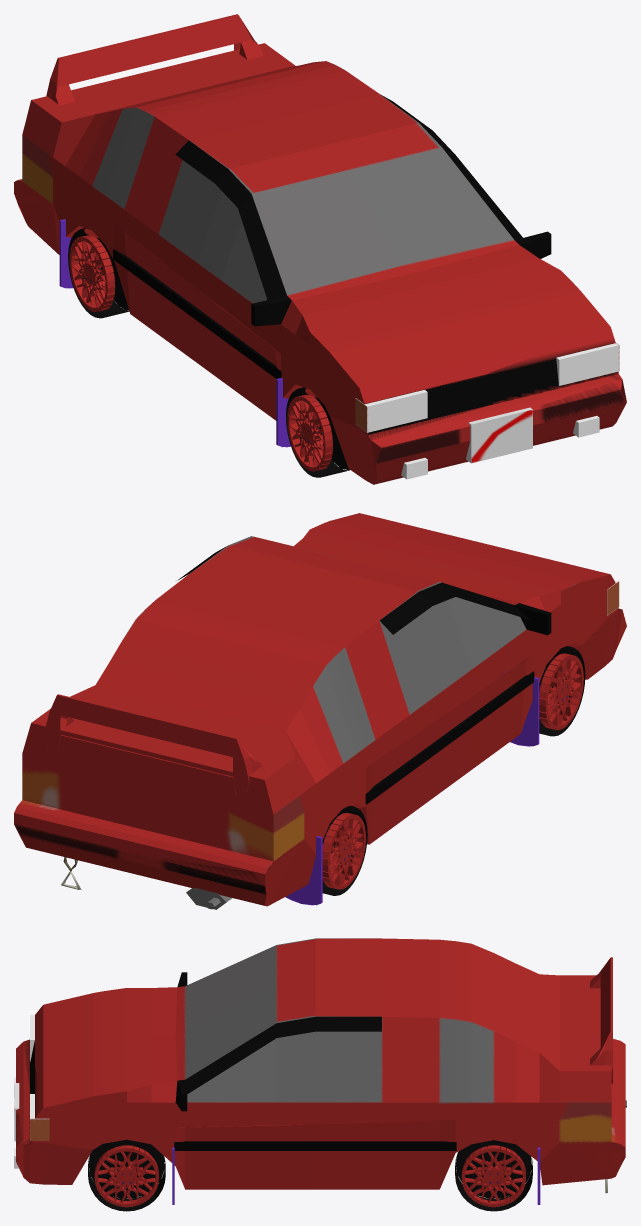
File: toy_car.glb
3 renders of one model, top to bottom at view 1: azimuth 30°, elevation 25°; view 2: azimuth 150°, elevation 25°; view 3: azimuth 270°, elevation 25°, orthographic. The views are drawn at different scales.
Parts seen in each view (by area): view 1: car_base; view 2: car_base; view 3: car_base.
Boxes of the visible parts, <box> form: car_base: <box>14,14,626,484</box>; car_base: <box>14,513,626,909</box>; car_base: <box>14,938,626,1211</box>.
Bounding box in the file's own units: 3.39 × 2.37 × 7.21.
Materials: 12 (12 with a texture image).
